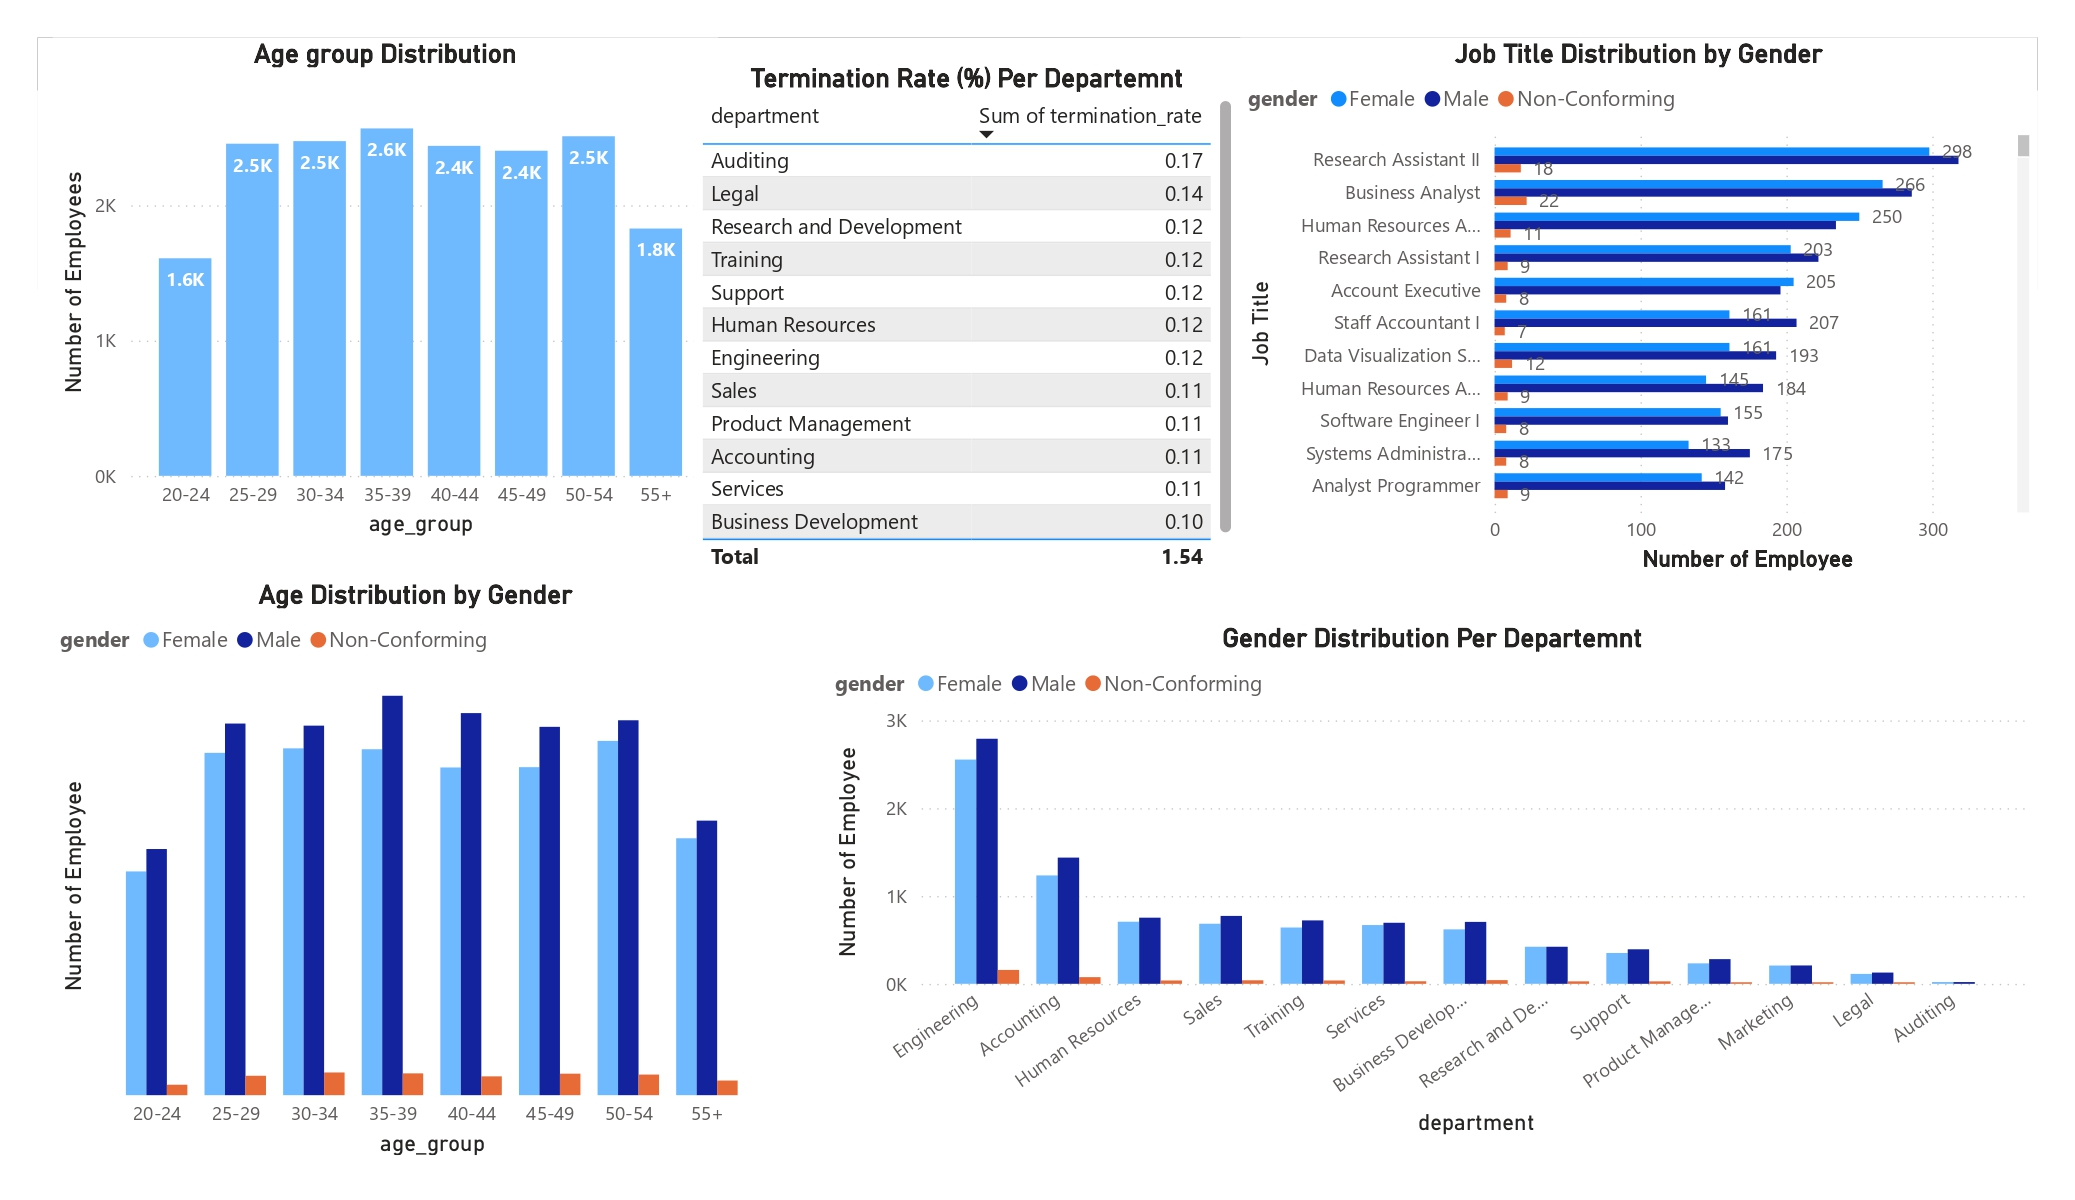

What the dashboard file says about the page in this screenshot:
{"tool":"powerbi","page":{"name":"Page 2","canvas":[1280,720],"ordinal":1},"visuals":[{"type":"columnChart","title":"Age group Distribution","fields":{"Category":["age_group.age_group"],"Y":["Sum(age_group.count)"]},"box":[9.7,0,389.7,324.5],"z":0},{"type":"clusteredColumnChart","title":"Age Distribution by Gender","fields":{"Category":["age_group_gender.age_group"],"Y":["Sum(age_group_gender.count)"],"Series":["age_group_gender.gender"]},"box":[9.7,346.2,464.5,374],"z":1000},{"type":"tableEx","title":"Termination Rate (%) Per Departemnt","fields":{"Values":["turnover_rate.department","Sum(turnover_rate.termination_rate)"]},"box":[399.3,15.7,342.6,330.6],"z":2000},{"type":"clusteredColumnChart","title":"Gender Distribution Per Departemnt","fields":{"Y":["Sum(gender_dept.count)"],"Category":["gender_dept.department"],"Series":["gender_dept.gender"]},"box":[505.5,374,774.5,333],"z":3000},{"type":"clusteredBarChart","title":"Job Title Distribution by Gender","fields":{"Category":["gender_jobtitle.jobtitle"],"Series":["gender_jobtitle.gender"],"Y":["Sum(gender_jobtitle.count)"]},"box":[742,0,538.1,346.2],"z":3001}]}

Visuals, with their boxes on the page's 1280x720 design canvas (x1, y1, x2, y2). These are canvas units, not pixel positions in the 2075x1200 screenshot, which may show the page scaled, cropped or inside an application window:
"Age group Distribution" columnChart: select_region(10, 0, 399, 324)
"Age Distribution by Gender" clusteredColumnChart: select_region(10, 346, 474, 720)
"Termination Rate (%) Per Departemnt" tableEx: select_region(399, 16, 742, 346)
"Gender Distribution Per Departemnt" clusteredColumnChart: select_region(506, 374, 1280, 707)
"Job Title Distribution by Gender" clusteredBarChart: select_region(742, 0, 1280, 346)
